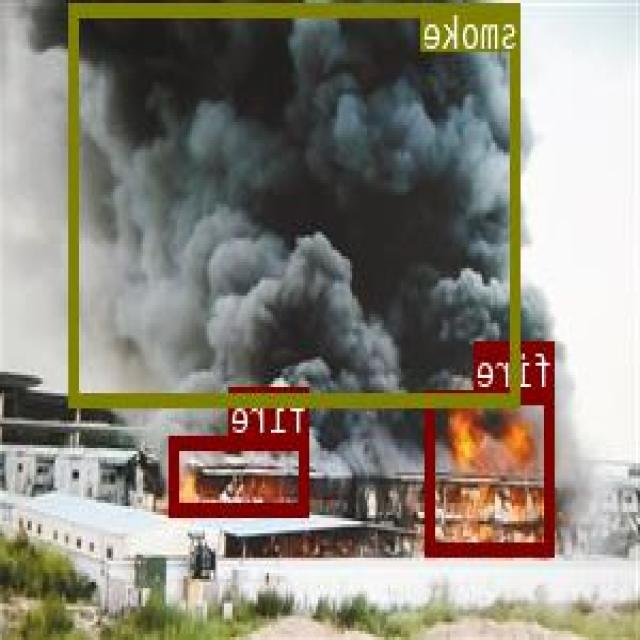fire: (428, 389, 556, 554), (172, 435, 310, 513)
smoke: (71, 1, 522, 406)
